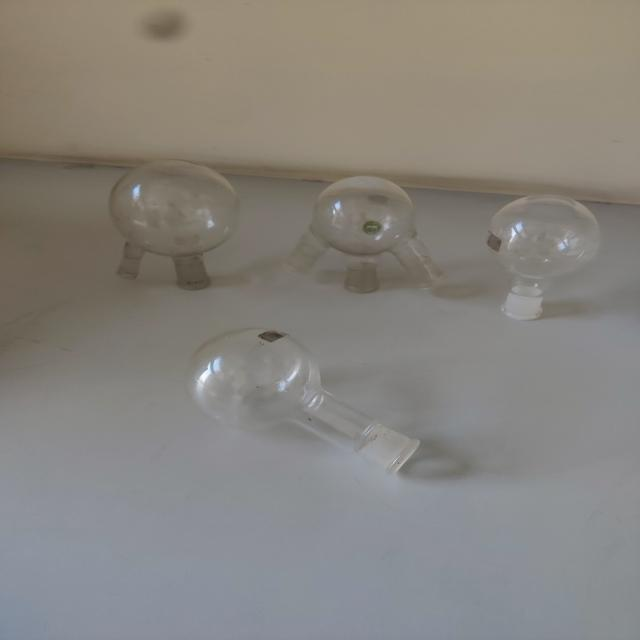Round_Bottom_Flask_Borosilicate_Glass_1_Neck: (130, 304, 440, 490), (478, 157, 620, 336)
Round_Bottom_Flask_Borosilicate_Glass_2_Neck: (92, 146, 260, 302)
Round_Bottom_Flask_Borosilicate_Glass_3_Neck: (280, 149, 459, 304)
